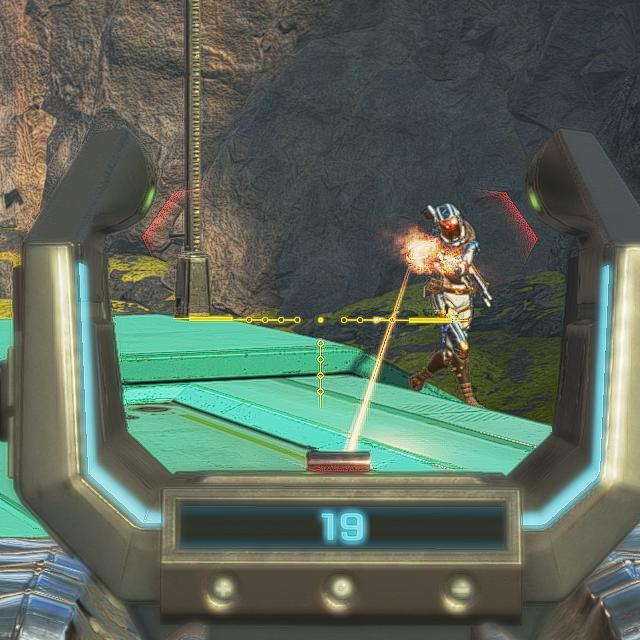avatar: (403, 202, 492, 411)
